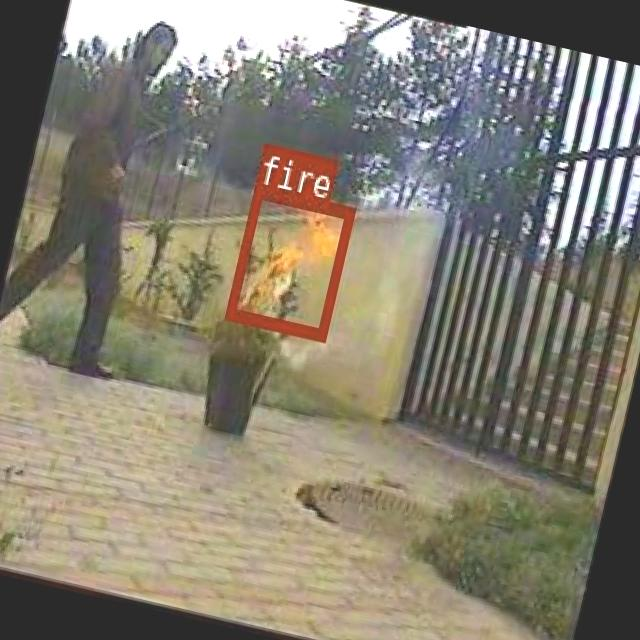fire: (223, 182, 354, 340)
